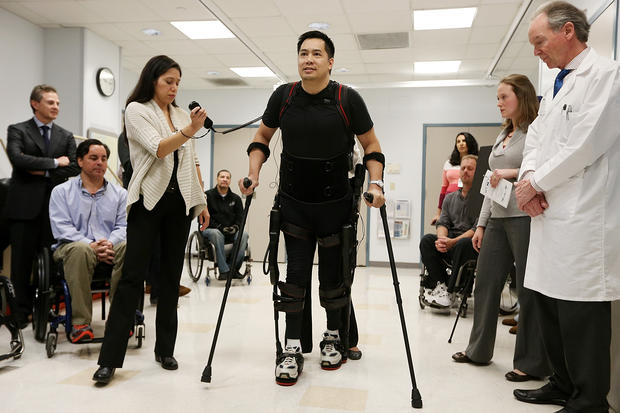feet: (509, 349, 615, 413), (268, 320, 351, 392), (447, 328, 557, 380), (87, 331, 182, 388), (67, 297, 145, 344), (8, 284, 72, 331), (503, 290, 539, 342), (421, 273, 463, 312), (212, 253, 247, 282)
